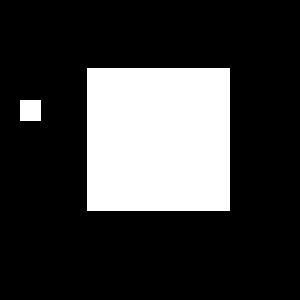circle: (87, 68, 230, 211), (20, 100, 41, 121)
